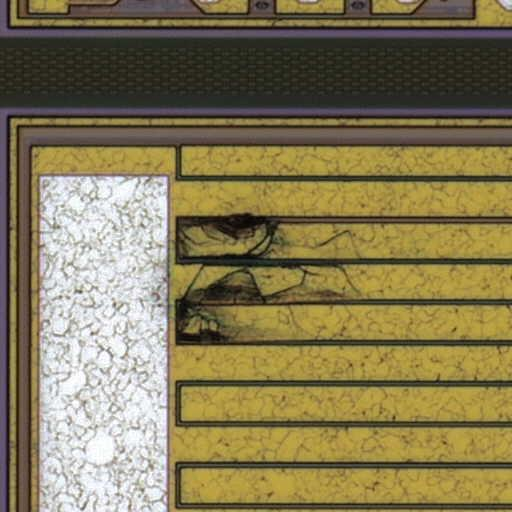COATING BAD: (169, 209, 370, 351)
